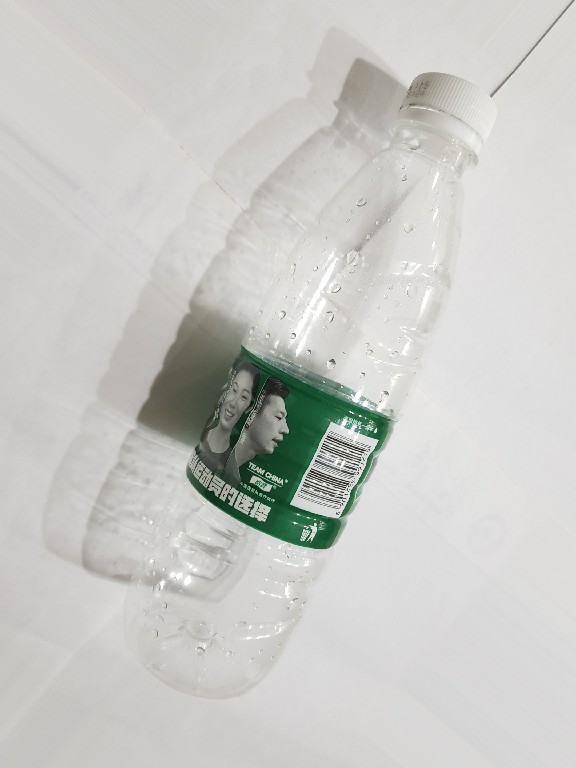bottle: (128, 63, 504, 705)
